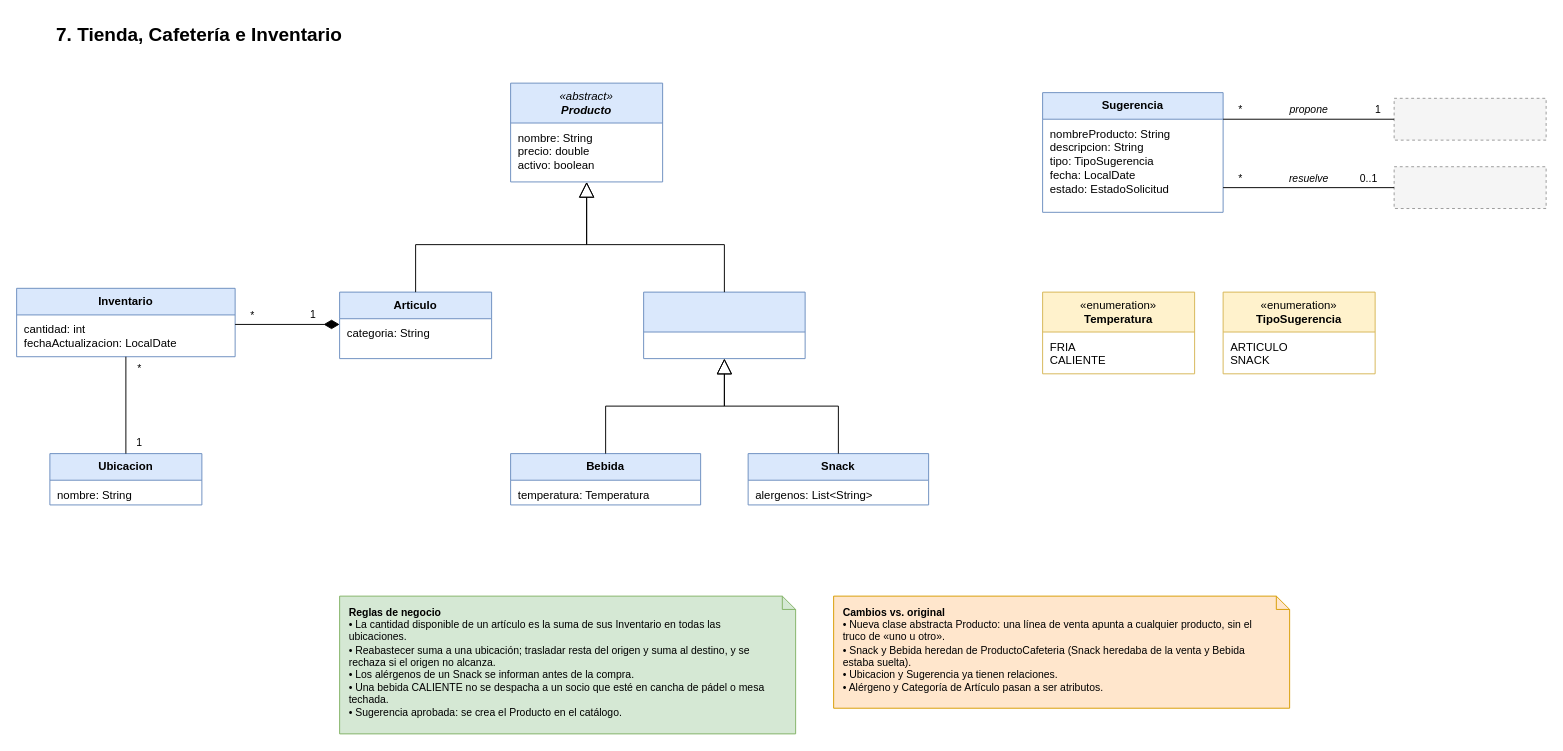
Image size: 1563x751. Some labels were removed from this diagram. Each missing label, with the centre of its shape:
Administrador (Usuarios): (1469,187)
Empleado (Usuarios): (1469,118)
«abstract» ProductoCafeteria: (724,325)
